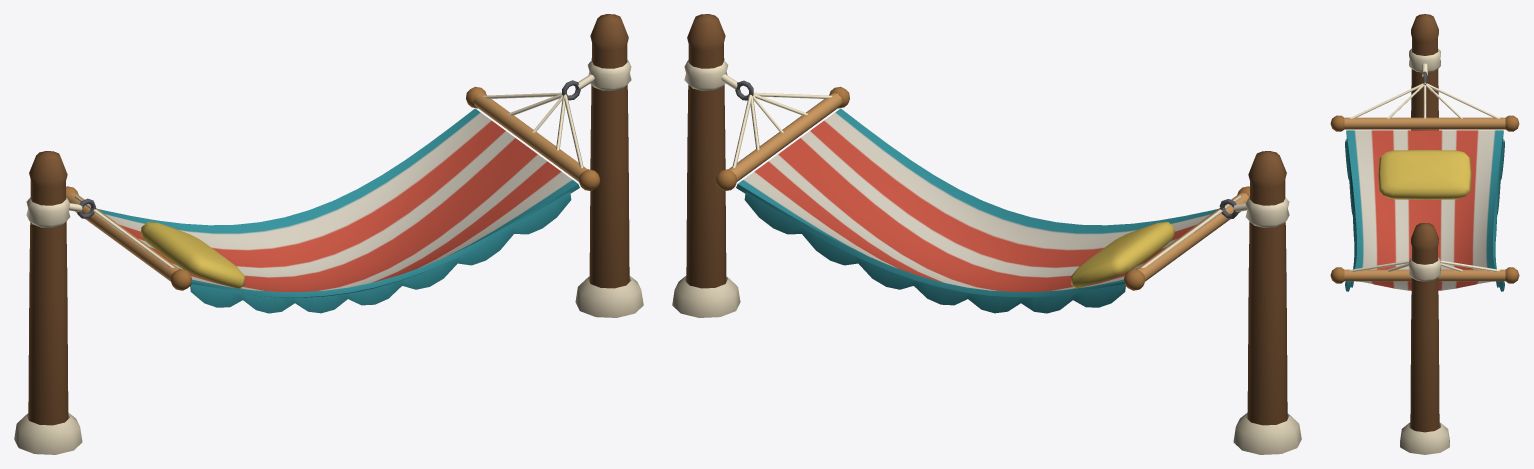
File: hammock.glb
The picture shows the model from 3 angles, left to right: view 1: azimuth 30°, elevation 25°; view 2: azimuth 150°, elevation 25°; view 3: azimuth 270°, elevation 25°; orthographic projection. The views are drawn at different scales.
Parts seen in each view (by area): view 1: hammock_cloth, hammock_main; view 2: hammock_cloth, hammock_main; view 3: hammock_cloth, hammock_main.
Boxes of the visible parts, bbox=[...] form: hammock_cloth: bbox=[98, 108, 579, 313]; hammock_main: bbox=[14, 14, 643, 454]; hammock_cloth: bbox=[736, 108, 1217, 313]; hammock_main: bbox=[672, 14, 1301, 454]; hammock_cloth: bbox=[1345, 130, 1504, 291]; hammock_main: bbox=[1330, 14, 1519, 454].
Size of the model in its own units: 2.92 by 1.3 by 1.01.
